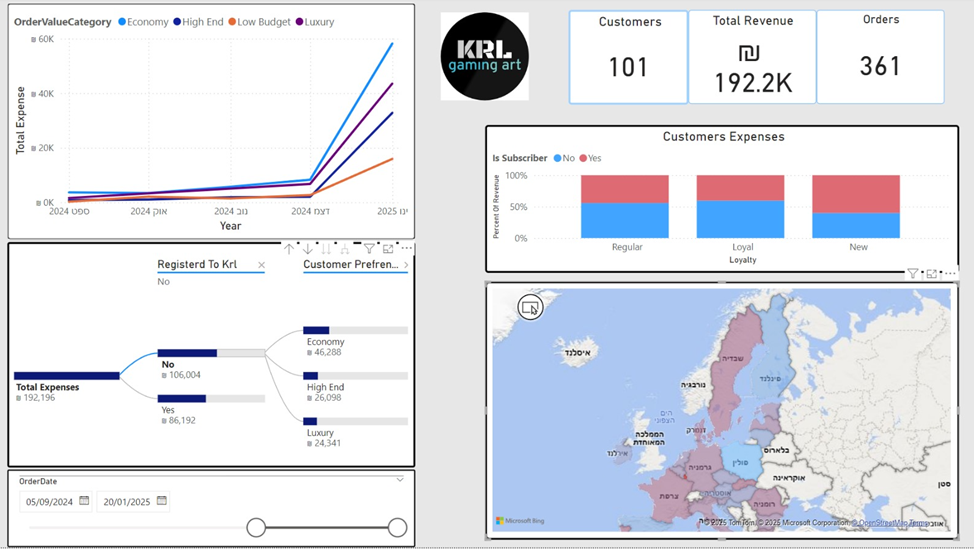

The dashboard page shown, as its layout file describes it:
{"tool":"powerbi","page":{"name":"Page 1","canvas":[1280,720],"ordinal":0},"visuals":[{"type":"filledMap","fields":{"Category":["PowerBI_View.Country"]},"box":[640.1,371.5,619.7,338.7],"z":0},{"type":"card","title":"Total Revenue","fields":{"Values":["PowerBI_View.TotalPrice"]},"box":[906.1,16,167.6,123.2],"z":1000},{"type":"decompositionTreeVisual","fields":{"ExplainBy":["PowerBI_View.IsSubscriber","PowerBI_View.OrderValueCategory"],"Analyze":["PowerBI_View.TotalPrice"]},"box":[15.1,320,533.7,295.2],"z":2000},{"type":"slicer","fields":{"Values":["PowerBI_View.OrderDate"]},"box":[15.1,617.9,533.7,102],"z":3000},{"type":"lineChart","fields":{"Category":["PowerBI_View.OrderDate.Variation.Date Hierarchy.Year","PowerBI_View.OrderDate.Variation.Date Hierarchy.Quarter","PowerBI_View.OrderDate.Variation.Date Hierarchy.Month"],"Y":["PowerBI_View.TotalPrice"],"Series":["PowerBI_View.OrderValueCategory"]},"box":[15.1,7.1,533.7,309.4],"z":4000},{"type":"hundredPercentStackedColumnChart","title":"Customers Expenses","fields":{"Category":["PowerBI_View.CustomerLoyaltyCategory"],"Series":["PowerBI_View.IsSubscriber"],"Y":["PowerBI_View.TotalPrice"]},"box":[640.1,166.7,619.7,193.3],"z":5000},{"type":"card","title":"Orders","fields":{"Values":["PowerBI_View.OrderID"]},"box":[1073.6,16,167.6,123.2],"z":6000},{"type":"image","box":[577.1,0,125,153.4],"z":7000},{"type":"card","title":"Customers","fields":{"Values":["PowerBI_View.CustomerEmail"]},"box":[749.1,16,156.9,124.1],"z":8000}]}

Visuals, with their boxes in screenshot pixels (x1, y1, x2, y2), scaled from the page's 1280x720 canvas onto the 974x549 screenshot:
filledMap - PowerBI_View.Country: <region>487, 283, 959, 542</region>
"Total Revenue" card: <region>689, 12, 817, 106</region>
decompositionTreeVisual - PowerBI_View.IsSubscriber x PowerBI_View.OrderValueCategory: <region>11, 244, 418, 469</region>
slicer - PowerBI_View.OrderDate: <region>11, 471, 418, 548</region>
lineChart - PowerBI_View.OrderDate.Variation.Date Hierarchy.Year x PowerBI_View.OrderDate.Variation.Date Hierarchy.Quarter: <region>11, 5, 418, 241</region>
"Customers Expenses" hundredPercentStackedColumnChart: <region>487, 127, 959, 274</region>
"Orders" card: <region>817, 12, 944, 106</region>
image: <region>439, 0, 534, 117</region>
"Customers" card: <region>570, 12, 689, 107</region>
